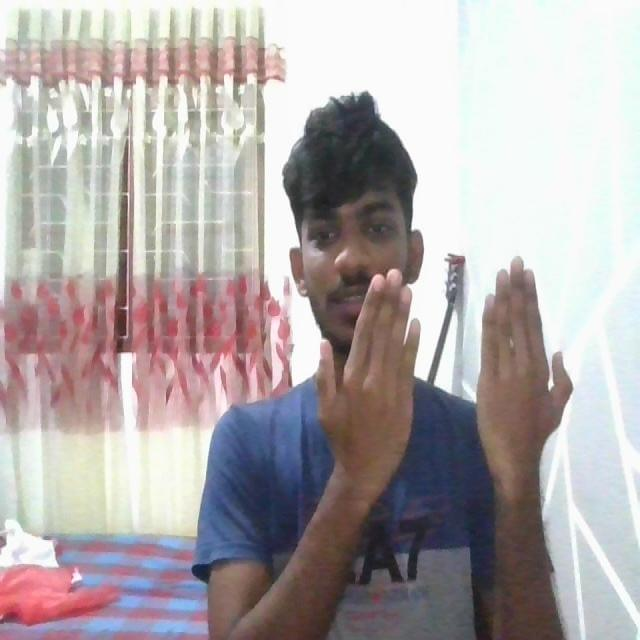ThankYou: (196, 259, 581, 640)
